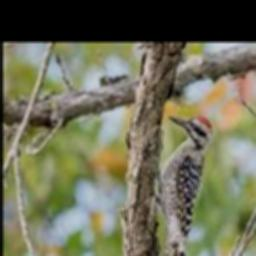Woodpecker: (155, 114, 212, 256)
